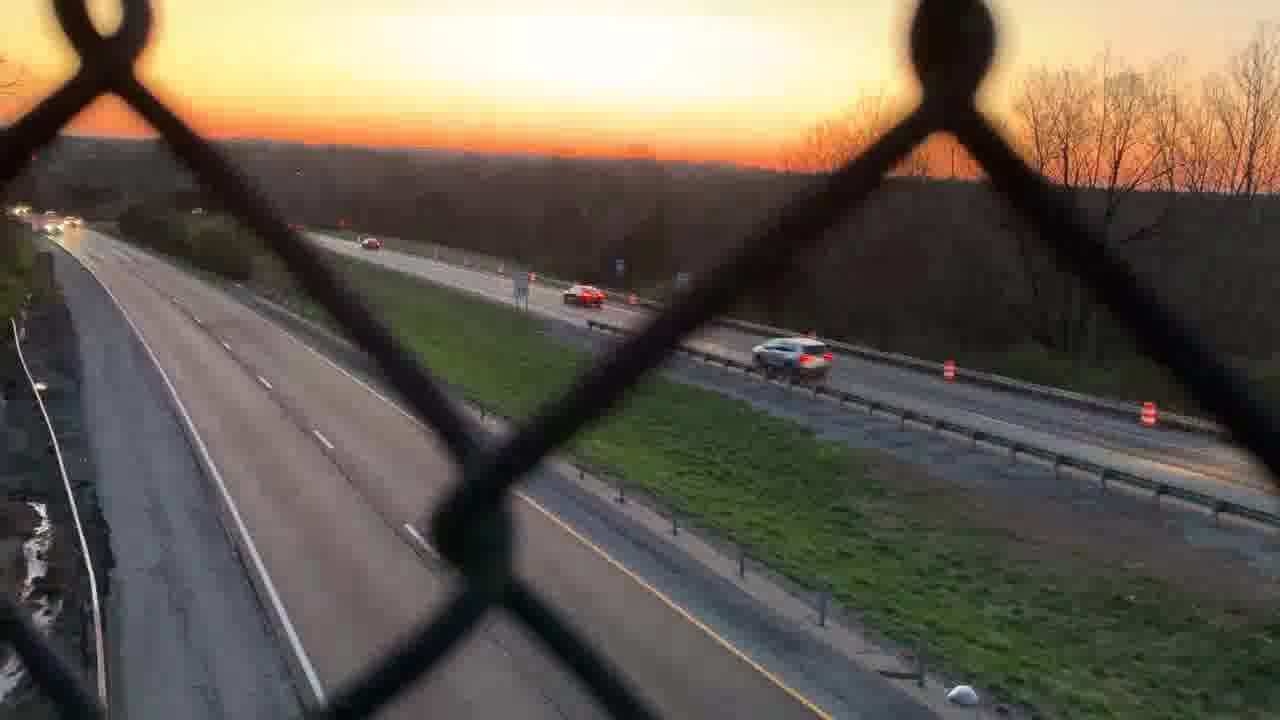largeCar: (739, 330, 833, 380)
smallCar: (559, 279, 605, 311)
